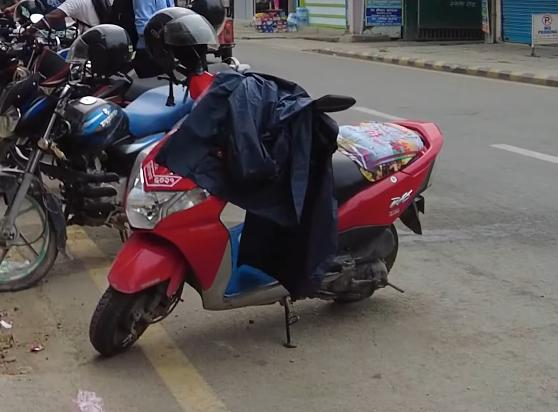scooter: (82, 59, 452, 361)
